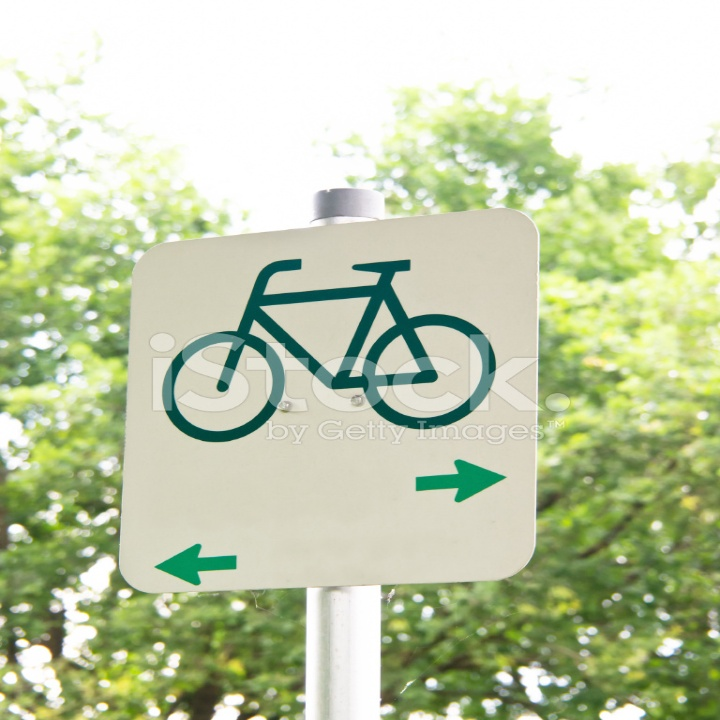bicycle: (159, 242, 498, 441)
